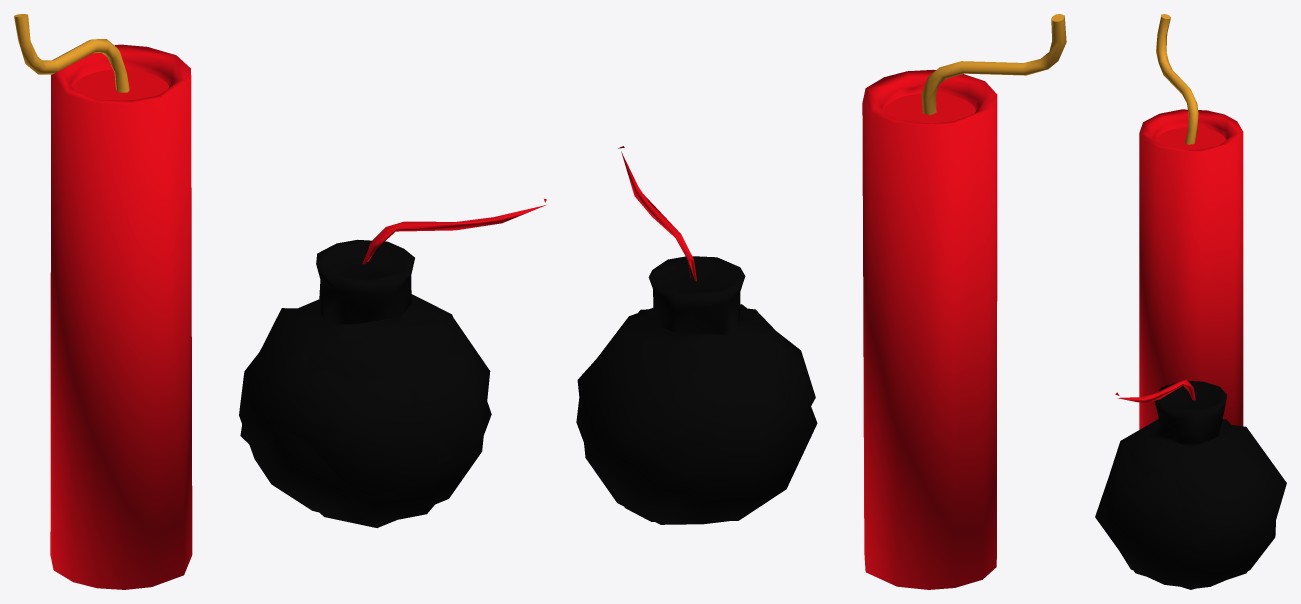
File: explosives.glb
3 views of the same model, side by side, from view 1: azimuth 30°, elevation 25°; view 2: azimuth 150°, elevation 25°; view 3: azimuth 270°, elevation 25° (orthographic). The views are drawn at different scales.
Visible parts, largest first — view 1: Cylinder.001, Cylinder; view 2: Cylinder.001, Cylinder; view 3: Cylinder.001, Cylinder.
Part boxes in pixels (left/top/right/bottom): Cylinder.001: left=14, top=14, right=192, bottom=589; Cylinder: left=239, top=199, right=546, bottom=527; Cylinder.001: left=862, top=14, right=1066, bottom=589; Cylinder: left=576, top=146, right=817, bottom=524; Cylinder.001: left=1139, top=14, right=1243, bottom=429; Cylinder: left=1095, top=379, right=1286, bottom=589.
Bounding box in the file's own units: 4.07 × 4.67 × 1.86.
